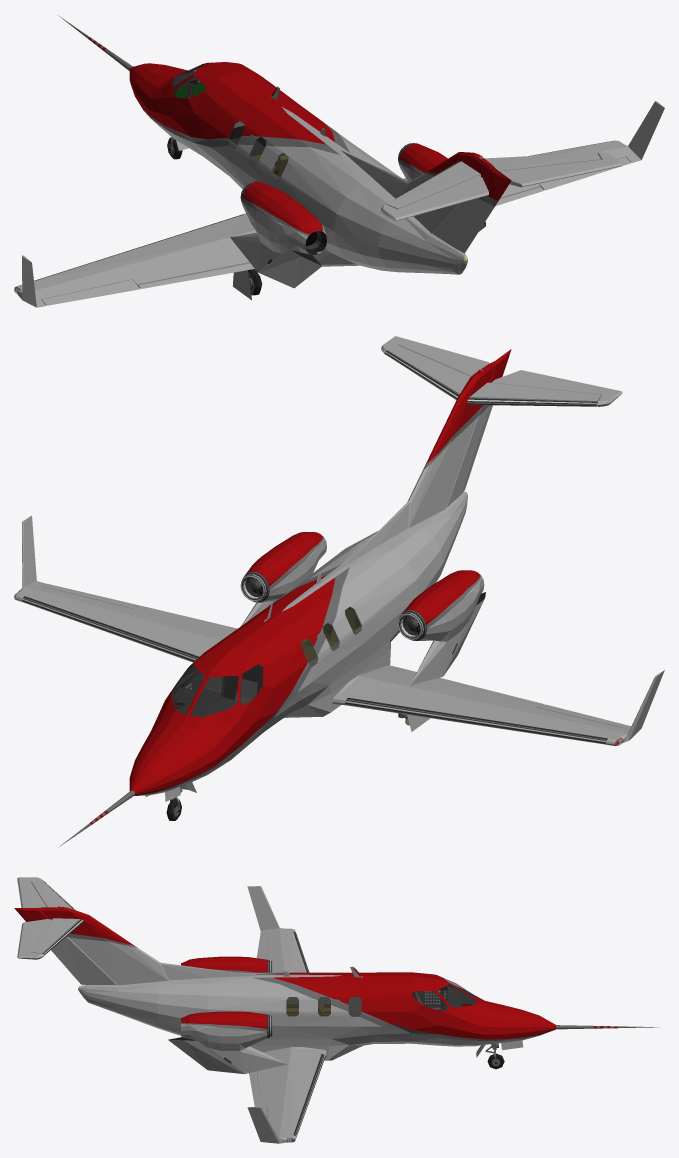
File: HondaJET.obj
3 renders of one model, top to bottom at view 1: azimuth 30°, elevation 25°; view 2: azimuth 150°, elevation 25°; view 3: azimuth 270°, elevation 25°, orthographic. The views are drawn at different scales.
Visible parts, largest first — view 1: ShapeIndexedFaceSet.002_ShapeIndexedFaceSet.003, ShapeIndexedFaceSet.004_ShapeIndexedFaceSet.005, ShapeIndexedFaceSet.003_ShapeIndexedFaceSet.004, ShapeIndexedFaceSet.033_ShapeIndexedFaceSet.034, ShapeIndexedFaceSet.037_ShapeIndexedFaceSet.038, ShapeIndexedFaceSet.036_ShapeIndexedFaceSet.037, ShapeIndexedFaceSet.075_ShapeIndexedFaceSet.076, ShapeIndexedFaceSet.045_ShapeIndexedFaceSet.046, ShapeIndexedFaceSet.020_ShapeIndexedFaceSet.021, ShapeIndexedFaceSet.043_ShapeIndexedFaceSet.044, ShapeIndexedFaceSet.035_ShapeIndexedFaceSet.036, ShapeIndexedFaceSet.008_ShapeIndexedFaceSet.009 (+1 smaller); view 2: ShapeIndexedFaceSet.002_ShapeIndexedFaceSet.003, ShapeIndexedFaceSet.004_ShapeIndexedFaceSet.005, ShapeIndexedFaceSet.003_ShapeIndexedFaceSet.004, ShapeIndexedFaceSet.008_ShapeIndexedFaceSet.009, ShapeIndexedFaceSet.075_ShapeIndexedFaceSet.076, ShapeIndexedFaceSet.007_ShapeIndexedFaceSet.008, ShapeIndexedFaceSet.020_ShapeIndexedFaceSet.021, ShapeIndexedFaceSet.037_ShapeIndexedFaceSet.038, ShapeIndexedFaceSet.036_ShapeIndexedFaceSet.037, ShapeIndexedFaceSet.033_ShapeIndexedFaceSet.034, ShapeIndexedFaceSet.015_ShapeIndexedFaceSet.016; view 3: ShapeIndexedFaceSet.002_ShapeIndexedFaceSet.003, ShapeIndexedFaceSet.004_ShapeIndexedFaceSet.005, ShapeIndexedFaceSet.003_ShapeIndexedFaceSet.004, ShapeIndexedFaceSet.075_ShapeIndexedFaceSet.076, ShapeIndexedFaceSet.033_ShapeIndexedFaceSet.034, ShapeIndexedFaceSet.008_ShapeIndexedFaceSet.009, ShapeIndexedFaceSet.020_ShapeIndexedFaceSet.021, ShapeIndexedFaceSet.036_ShapeIndexedFaceSet.037, ShapeIndexedFaceSet.037_ShapeIndexedFaceSet.038, ShapeIndexedFaceSet.015_ShapeIndexedFaceSet.016.
Boxes of the visible parts, x1,y1,x2,y2 form: ShapeIndexedFaceSet.002_ShapeIndexedFaceSet.003: (15,86,664,307); ShapeIndexedFaceSet.004_ShapeIndexedFaceSet.005: (16,37,495,293); ShapeIndexedFaceSet.003_ShapeIndexedFaceSet.004: (15,15,482,291); ShapeIndexedFaceSet.033_ShapeIndexedFaceSet.034: (433,198,494,253); ShapeIndexedFaceSet.037_ShapeIndexedFaceSet.038: (381,175,488,221); ShapeIndexedFaceSet.036_ShapeIndexedFaceSet.037: (499,152,622,187); ShapeIndexedFaceSet.075_ShapeIndexedFaceSet.076: (172,64,288,180); ShapeIndexedFaceSet.045_ShapeIndexedFaceSet.046: (41,279,140,305); ShapeIndexedFaceSet.020_ShapeIndexedFaceSet.021: (171,64,266,156); ShapeIndexedFaceSet.043_ShapeIndexedFaceSet.044: (138,263,254,288); ShapeIndexedFaceSet.035_ShapeIndexedFaceSet.036: (483,168,511,200); ShapeIndexedFaceSet.008_ShapeIndexedFaceSet.009: (34,141,607,280); ShapeIndexedFaceSet.002_ShapeIndexedFaceSet.003: (15,345,664,795); ShapeIndexedFaceSet.004_ShapeIndexedFaceSet.005: (89,361,623,824); ShapeIndexedFaceSet.003_ShapeIndexedFaceSet.004: (22,350,619,847); ShapeIndexedFaceSet.008_ShapeIndexedFaceSet.009: (22,350,607,743); ShapeIndexedFaceSet.075_ShapeIndexedFaceSet.076: (171,607,361,716); ShapeIndexedFaceSet.007_ShapeIndexedFaceSet.008: (22,351,606,744); ShapeIndexedFaceSet.020_ShapeIndexedFaceSet.021: (171,652,263,716); ShapeIndexedFaceSet.037_ShapeIndexedFaceSet.038: (491,370,622,406); ShapeIndexedFaceSet.036_ShapeIndexedFaceSet.037: (381,336,488,376); ShapeIndexedFaceSet.033_ShapeIndexedFaceSet.034: (446,405,492,507); ShapeIndexedFaceSet.015_ShapeIndexedFaceSet.016: (202,606,361,704); ShapeIndexedFaceSet.002_ShapeIndexedFaceSet.003: (31,880,548,1143); ShapeIndexedFaceSet.004_ShapeIndexedFaceSet.005: (39,907,617,1141); ShapeIndexedFaceSet.003_ShapeIndexedFaceSet.004: (42,881,659,1141); ShapeIndexedFaceSet.075_ShapeIndexedFaceSet.076: (286,978,476,1016); ShapeIndexedFaceSet.033_ShapeIndexedFaceSet.034: (51,937,116,985); ShapeIndexedFaceSet.008_ShapeIndexedFaceSet.009: (43,881,325,1136); ShapeIndexedFaceSet.020_ShapeIndexedFaceSet.021: (411,984,476,1010); ShapeIndexedFaceSet.036_ShapeIndexedFaceSet.037: (17,919,51,959); ShapeIndexedFaceSet.037_ShapeIndexedFaceSet.038: (17,877,46,907); ShapeIndexedFaceSet.015_ShapeIndexedFaceSet.016: (286,991,440,1016).
Size of the model in its own units: 122 by 41.76 by 151.
